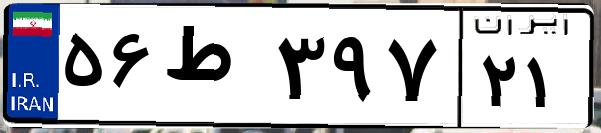1: (525, 38, 570, 115)
2: (475, 38, 525, 113)
3: (270, 28, 330, 110)
5: (57, 26, 110, 100)
6: (110, 28, 158, 98)
7: (385, 28, 445, 110)
9: (330, 28, 385, 110)
ط: (158, 20, 270, 120)
